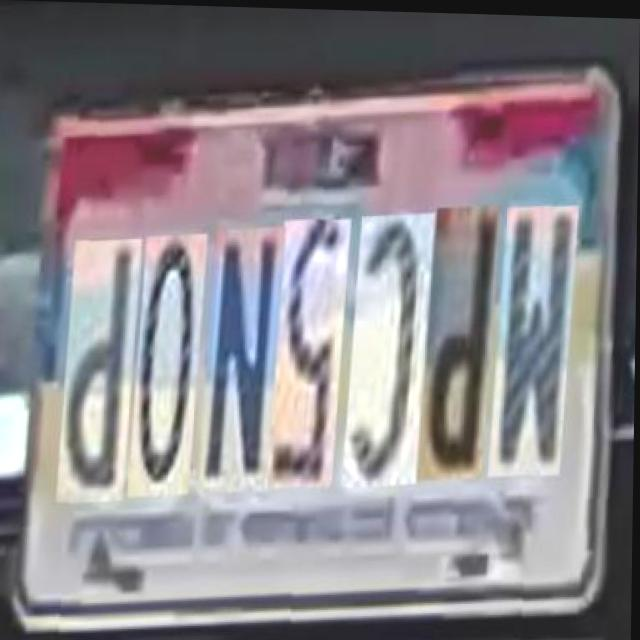5: (263, 210, 347, 483)
c: (341, 204, 429, 482)
m: (486, 196, 574, 473)
n: (197, 217, 282, 487)
o: (127, 224, 203, 491)
p: (416, 197, 496, 477), (54, 228, 137, 497)
